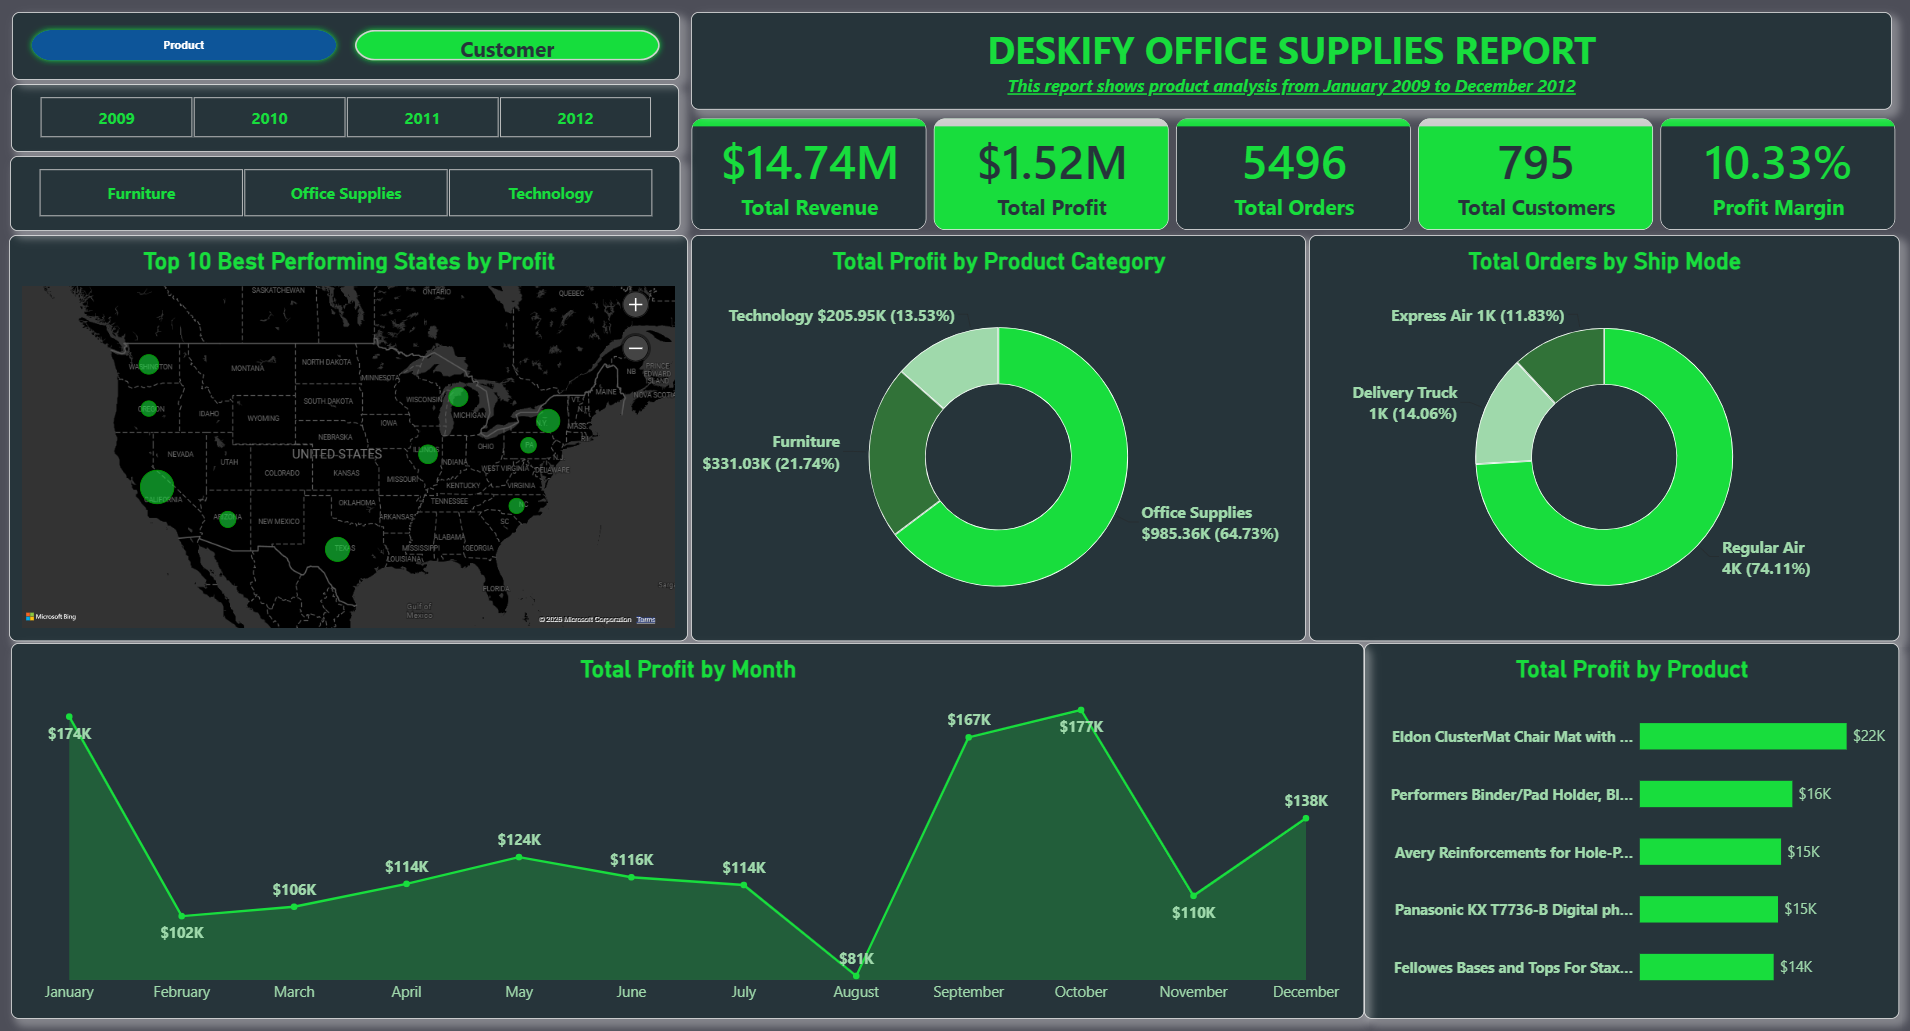

What the dashboard file says about the page in this screenshot:
{"tool":"powerbi","page":{"name":"Product","canvas":[2500,1500],"ordinal":0},"visuals":[{"type":"map","title":"Top 10 Best Performing States by Profit","fields":{"Size":["Calculated Measures.Total Profit"],"Category":["LocationDim.State"]},"box":[36.2,375.3,869.1,520],"z":0},{"type":"donutChart","fields":{"Category":["ProductDim.Product Category"],"Y":["Calculated Measures.Total Profit"]},"box":[909,375.3,786.8,520],"z":1000},{"type":"donutChart","fields":{"Y":["Calculated Measures.Total Orders"],"Category":["OrderDim.Ship Mode"]},"box":[1699.5,375.3,755.6,520],"z":2000},{"type":"clusteredBarChart","title":"Total Profit by Product","fields":{"Y":["Calculated Measures.Total Profit"],"Category":["ProductDim.Product Name"]},"box":[1770.6,897.8,684.5,481.3],"z":3000},{"type":"areaChart","title":"Total Profit by Month","fields":{"Y":["Calculated Measures.Total Profit"],"Category":["CalenderDim.MonthName"]},"box":[38.7,897.8,1731.9,481.3],"z":4000},{"type":"cardVisual","fields":{"Data":["Calculated Measures.Total Revenue","Calculated Measures.Total Profit","Calculated Measures.Total Orders","Calculated Measures.Total Customers","Calculated Measures.Profit Margin"]},"box":[909,225.7,1546.1,144.6],"z":5000},{"type":"slicer","fields":{"Values":["CalenderDim.Year"]},"box":[38.7,182,855.4,87.3],"z":6000},{"type":"slicer","fields":{"Values":["ProductDim.Product Category"]},"box":[37.4,274.3,857.9,96],"z":7000},{"type":"pageNavigator","box":[39.9,89.8,855.4,87.3],"z":8000},{"type":"textbox","box":[909,89.8,1537.4,124.7],"z":9000}]}

Visuals, with their boxes on the page's 2500x1500 design canvas (x1, y1, x2, y2). These are canvas units, not pixel positions in the 1910x1031 screenshot, which may show the page scaled, cropped or inside an application window:
"Top 10 Best Performing States by Profit" map: [left=36, top=375, right=905, bottom=895]
donutChart - ProductDim.Product Category x Calculated Measures.Total Profit: [left=909, top=375, right=1696, bottom=895]
donutChart - Calculated Measures.Total Orders x OrderDim.Ship Mode: [left=1700, top=375, right=2455, bottom=895]
"Total Profit by Product" clusteredBarChart: [left=1771, top=898, right=2455, bottom=1379]
"Total Profit by Month" areaChart: [left=39, top=898, right=1771, bottom=1379]
cardVisual - Calculated Measures.Total Revenue x Calculated Measures.Total Profit: [left=909, top=226, right=2455, bottom=370]
slicer - CalenderDim.Year: [left=39, top=182, right=894, bottom=269]
slicer - ProductDim.Product Category: [left=37, top=274, right=895, bottom=370]
pageNavigator: [left=40, top=90, right=895, bottom=177]
textbox: [left=909, top=90, right=2446, bottom=214]
